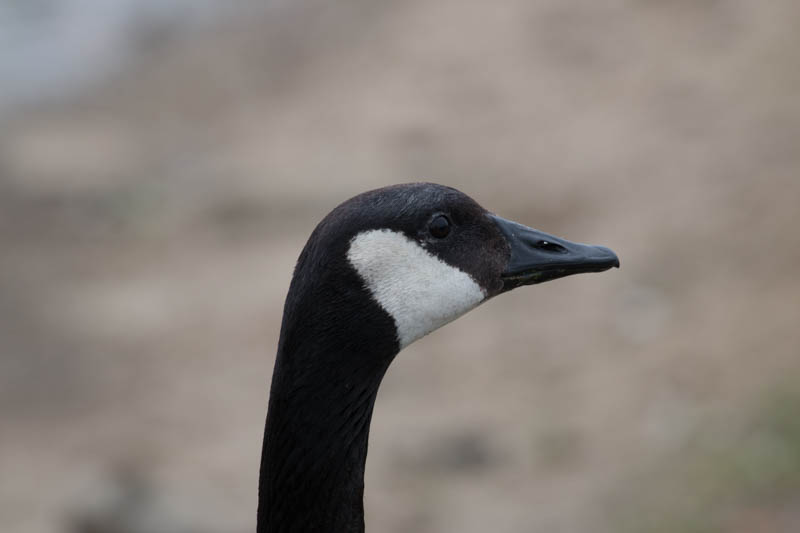goose-head: (282, 181, 619, 353)
